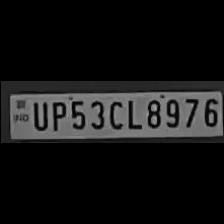3: (87, 98, 105, 130)
5: (66, 98, 86, 130)
6: (200, 96, 218, 128)
7: (180, 96, 198, 128)
8: (142, 97, 162, 129)
9: (161, 96, 179, 128)
C: (105, 98, 124, 130)
L: (123, 96, 141, 130)
P: (47, 99, 65, 131)
U: (29, 99, 47, 131)
